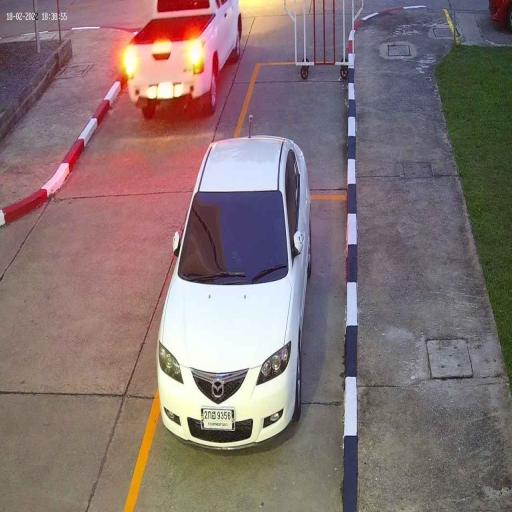car: (156, 132, 312, 452), (126, 0, 243, 121)
